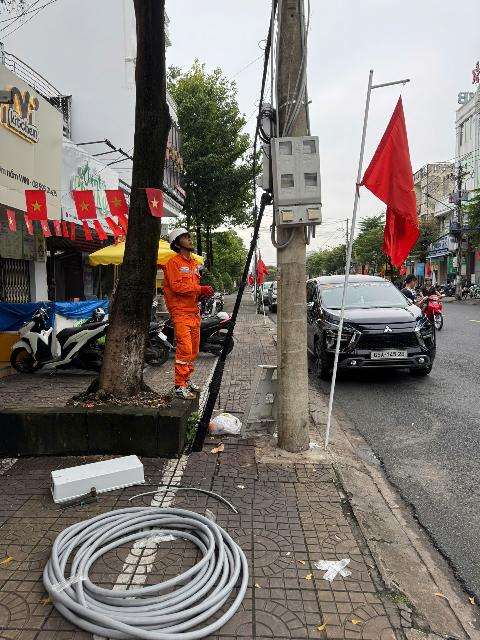gloves: (196, 284, 217, 297), (194, 293, 208, 303)
helmet: (160, 222, 196, 248)
shoes: (168, 386, 200, 402), (183, 375, 204, 393)
